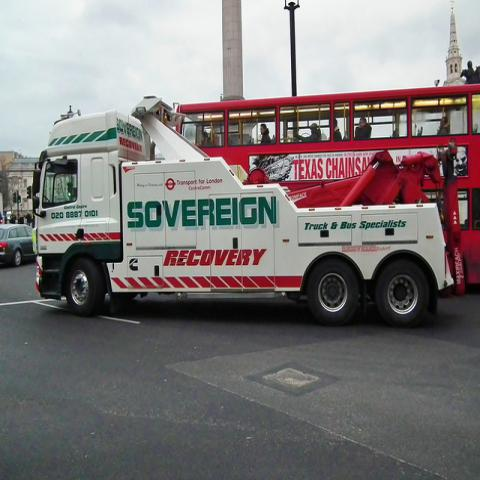bus: (175, 90, 480, 284)
car: (0, 223, 38, 268), (6, 210, 13, 221), (0, 212, 4, 224)
truck: (31, 92, 456, 330)
